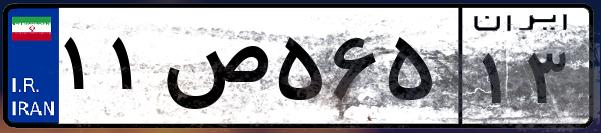1: (57, 26, 110, 100), (475, 38, 525, 113), (110, 28, 158, 98)
3: (525, 38, 570, 115)
5: (270, 28, 330, 110), (385, 28, 445, 110)
6: (330, 28, 385, 110)
ص: (158, 20, 270, 120)
